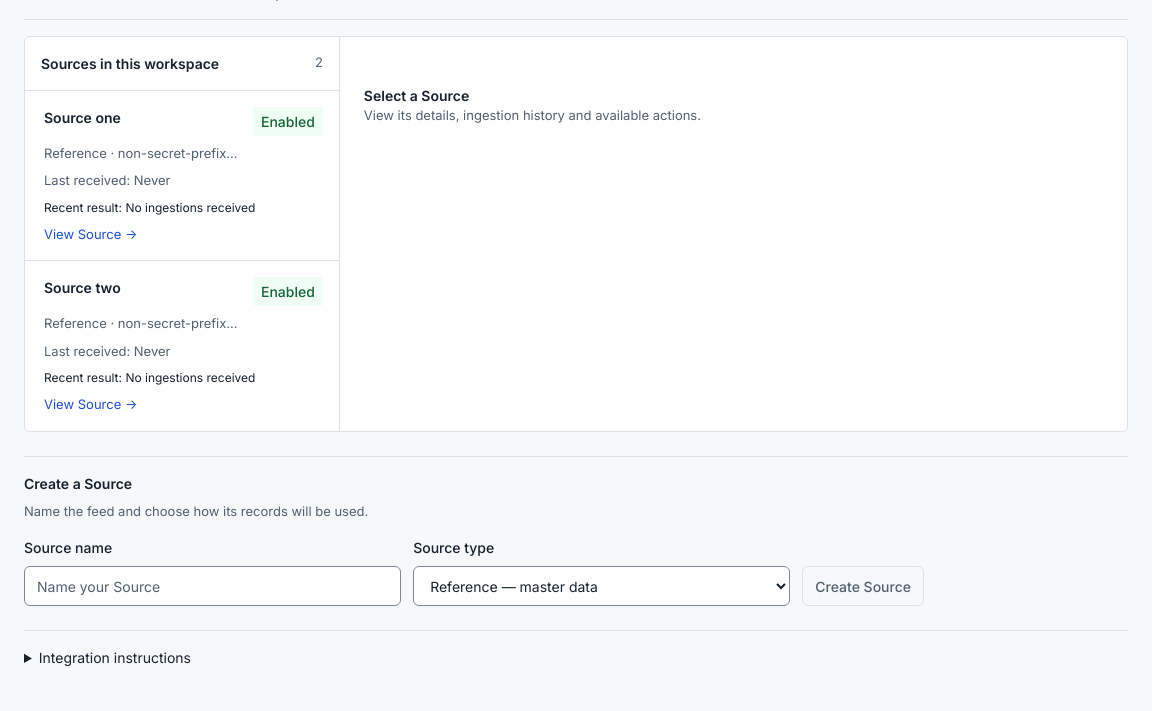
Source credential acknowledgement recovery › confirmed creation preserves form arguments, shows the key once and refreshes only reads
The width and height of the screenshot is (1152, 711).
(page scrolled)
Check: the button with aria-label "View Source Source one" is shown, box [25,90,339,260]
In the field labelled "Source name": (213, 586) [24,566,401,606], type "  New feed  "
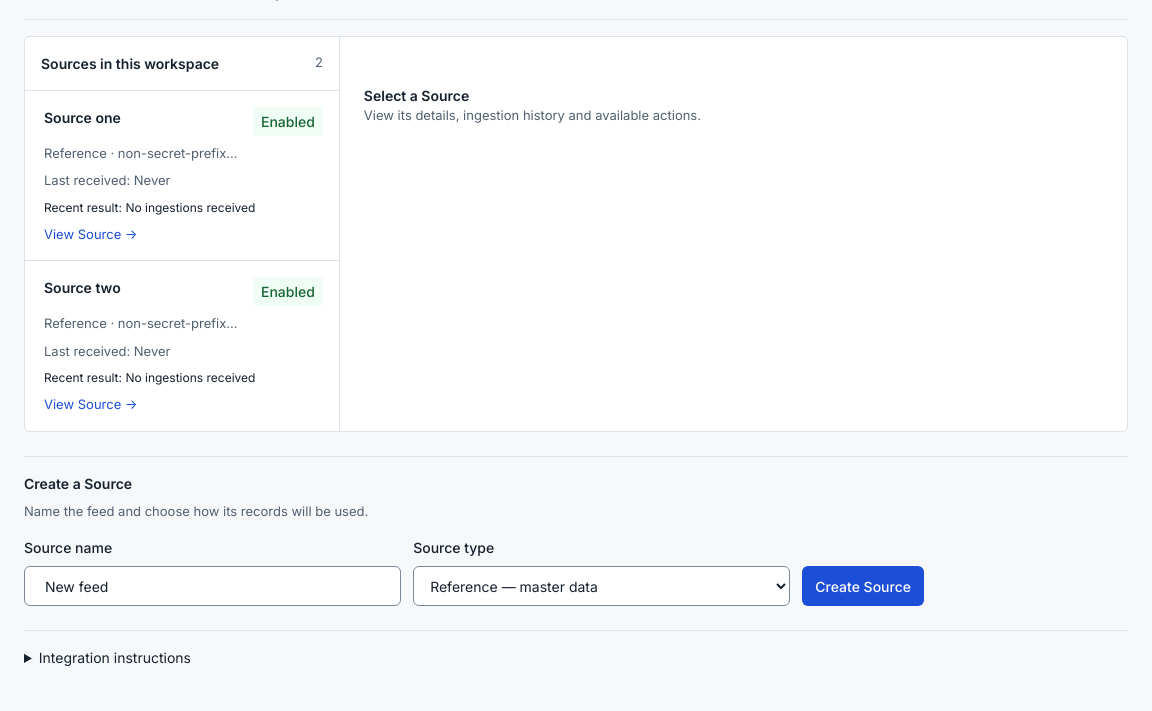
Submit the form labelled "Source name", box [24,537,924,606]
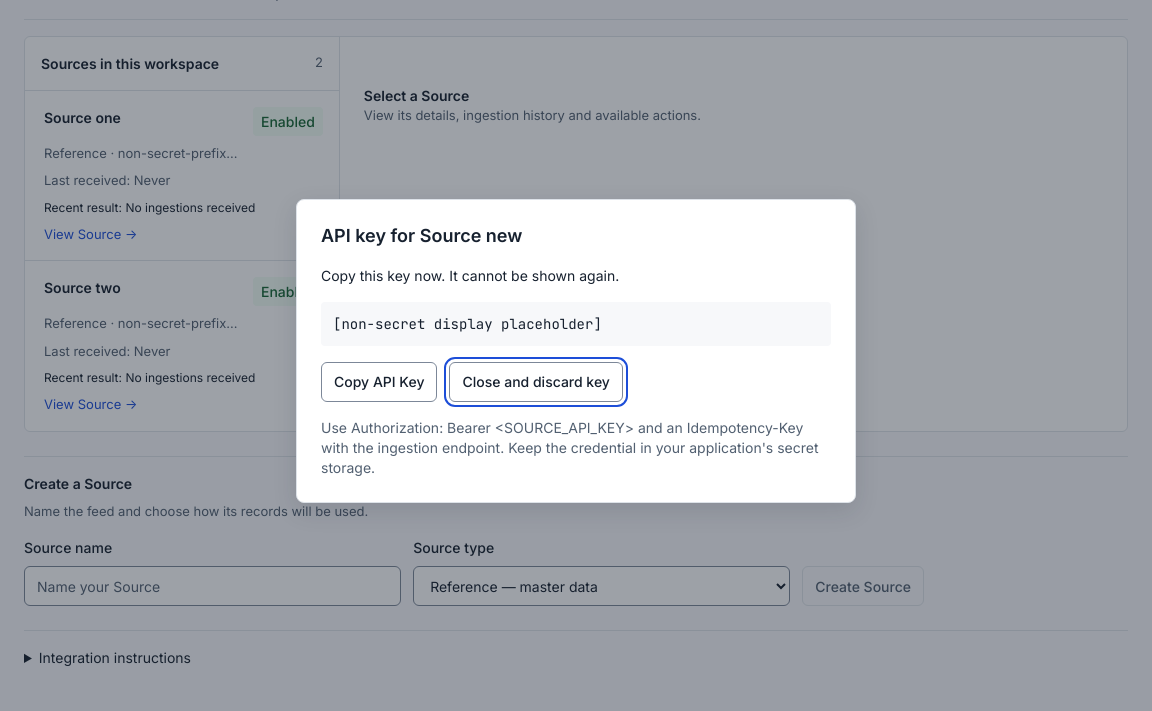
Check: the field labelled "Source name" is empty, box [24,566,401,606]
Check: the text "Copy this key now. It cannot be shown again." is shown, box [321,267,619,284]
Click the button "Close and discard key": (536, 382) [449,362,623,402]
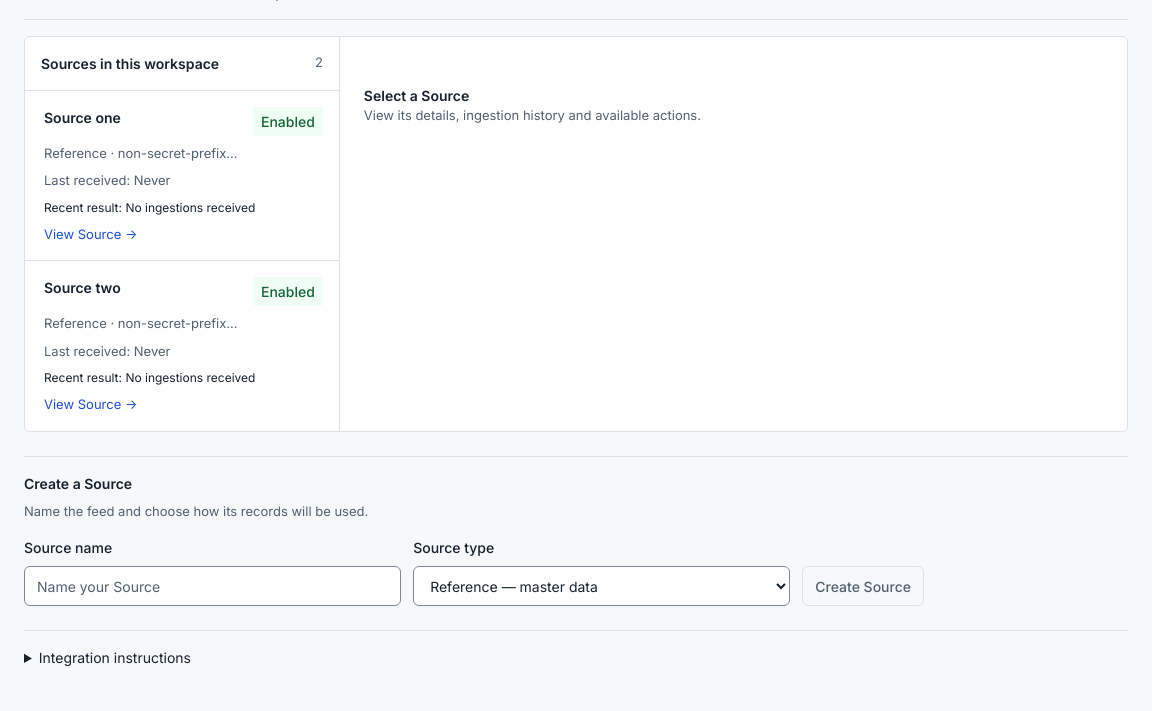
Check: the dialog is gone
